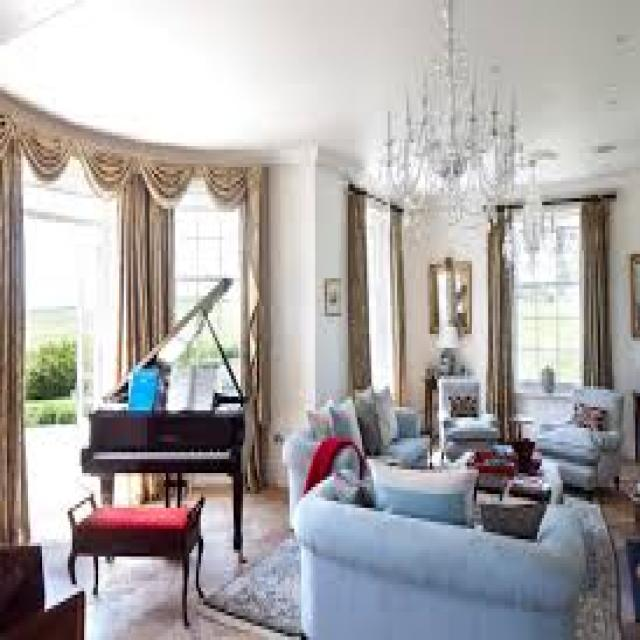Chair: (539, 389, 625, 486), (431, 374, 501, 462)
Lamp: (376, 3, 558, 248)
Sofa: (296, 473, 584, 640), (296, 404, 431, 512)
Table: (64, 490, 208, 619)
